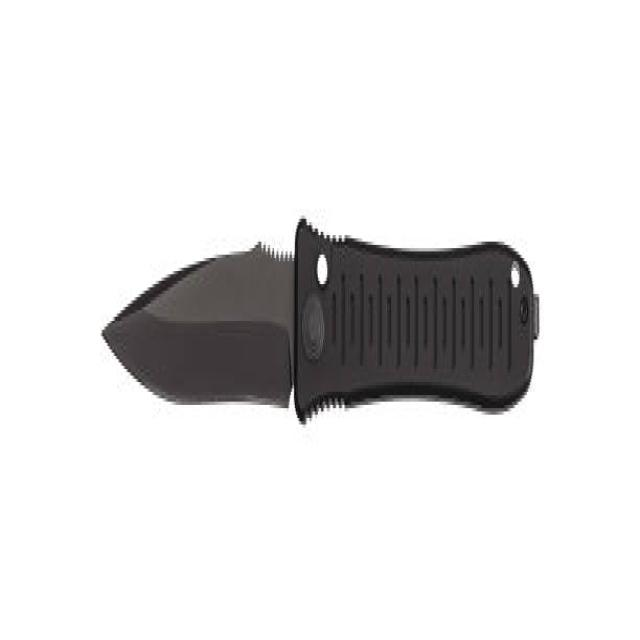knife: (103, 213, 544, 443)
